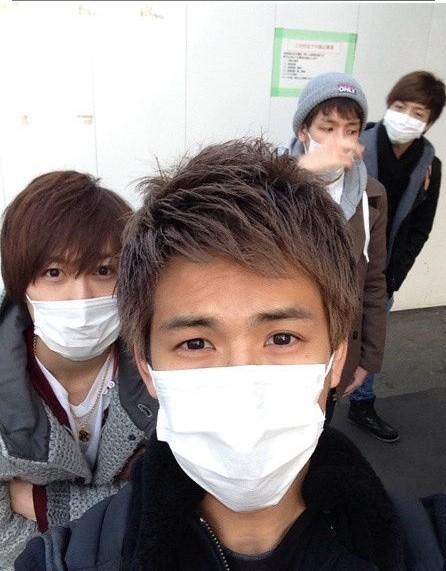face_with_mask: (127, 170, 352, 516), (0, 171, 133, 364), (293, 74, 367, 171), (381, 69, 441, 151)
